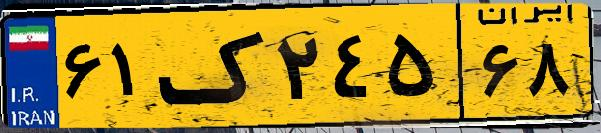1: (110, 28, 158, 98)
2: (270, 28, 330, 110)
4: (330, 28, 385, 110)
5: (385, 28, 445, 110)
6: (57, 26, 110, 100), (475, 38, 525, 113)
8: (525, 38, 570, 115)
ک: (158, 12, 270, 120)
